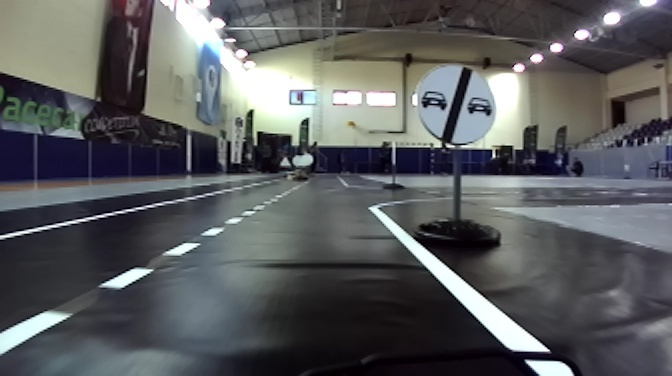sollama_serbest: (415, 63, 496, 146)
